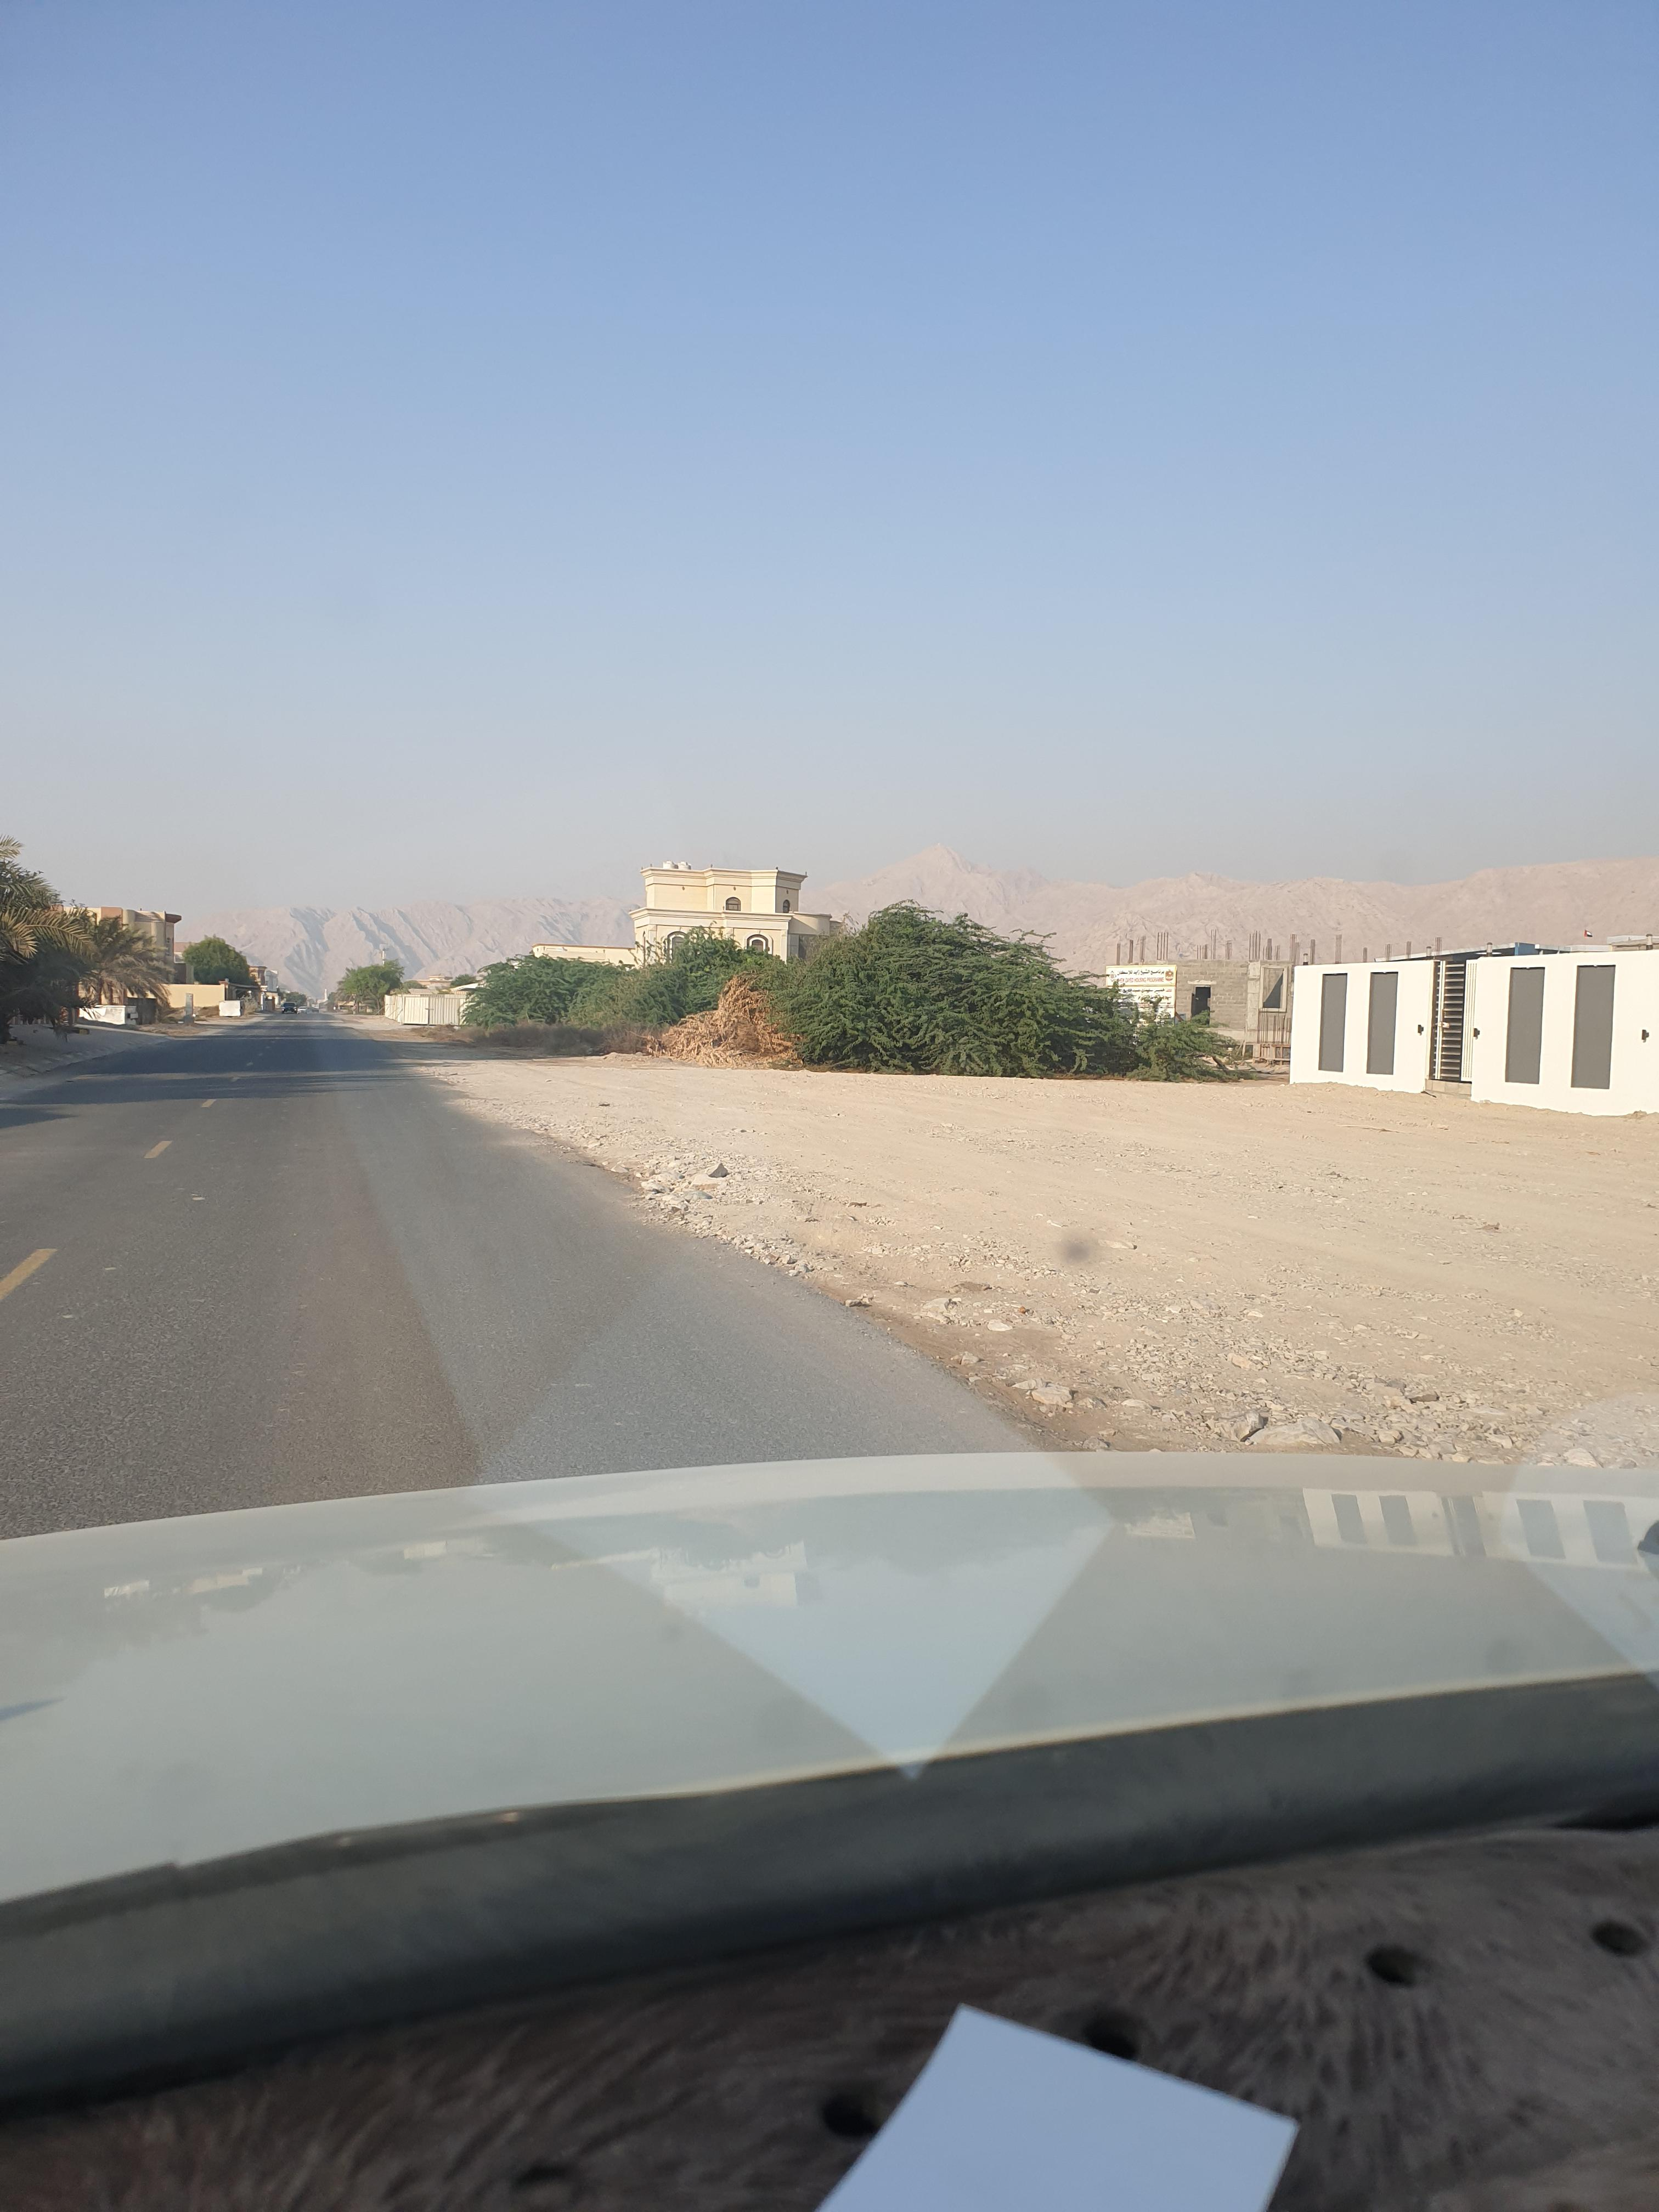fallen_trees: (650, 1038, 774, 1083)
